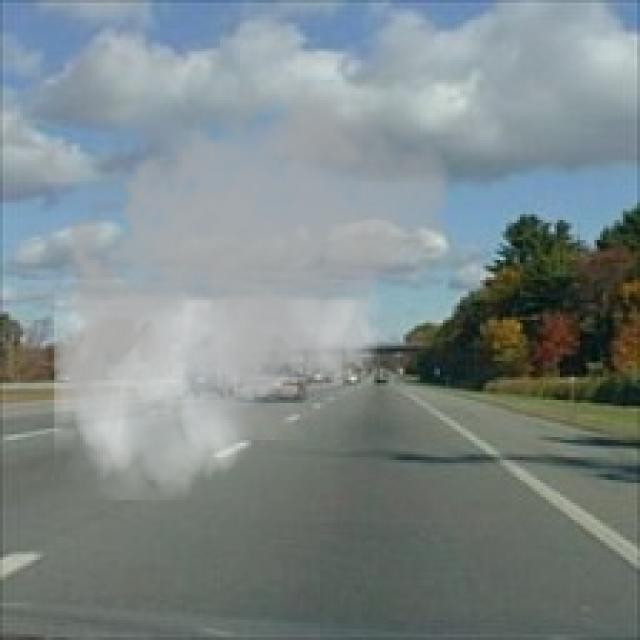Smoke: (37, 74, 460, 500)
